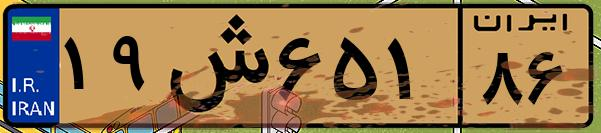1: (385, 28, 445, 110), (57, 26, 110, 100)
5: (330, 28, 385, 110)
6: (270, 28, 330, 110), (525, 38, 570, 115)
8: (475, 38, 525, 113)
9: (110, 28, 158, 98)
ش: (158, 12, 270, 120)
